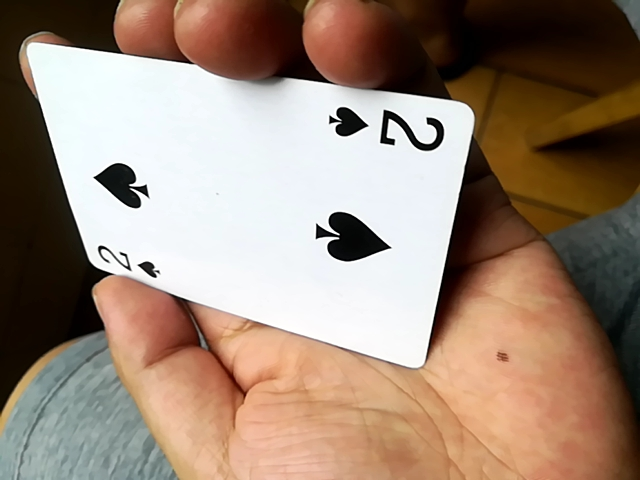ht 2: (30, 37, 477, 370)
